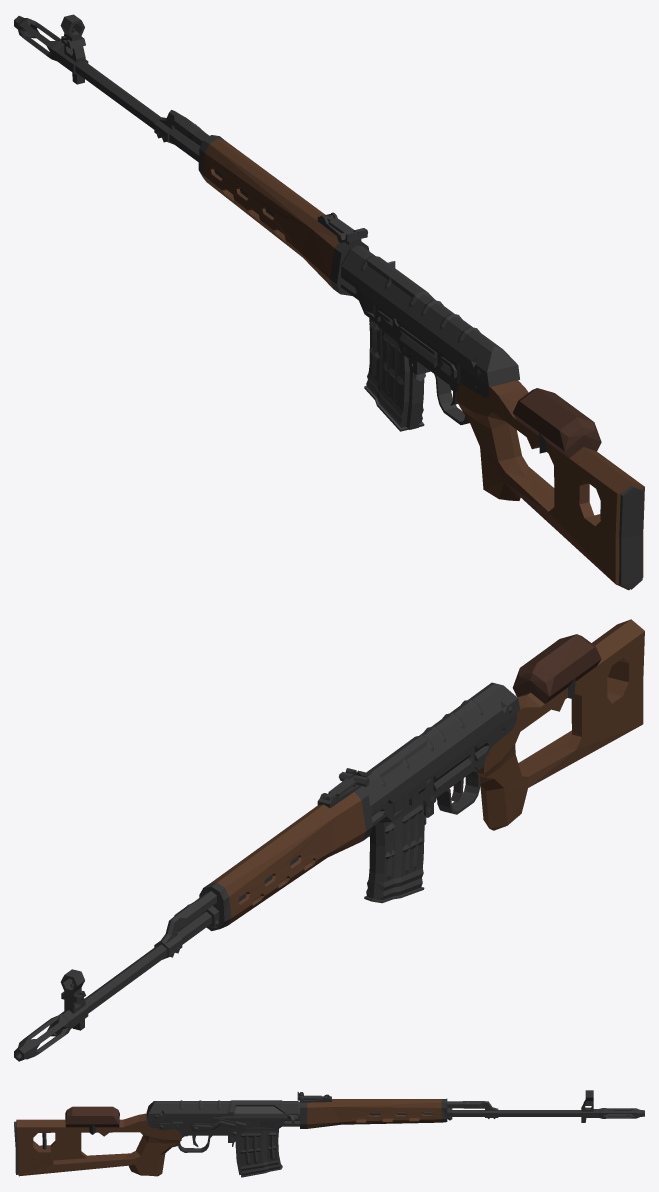
Rendered from low-poly_dragunov_svd.glb.
3 views of the same model, one above another, from view 1: azimuth 30°, elevation 25°; view 2: azimuth 150°, elevation 25°; view 3: azimuth 270°, elevation 25° (orthographic). The views are drawn at different scales.
Visible parts, largest first — view 1: svd_stock_8, svd_dustcover_1, svd_handguard_5, svd_barrel_0, svd_reciever_3, svd_magazine_6; view 2: svd_stock_8, svd_handguard_5, svd_dustcover_1, svd_barrel_0, svd_reciever_3, svd_magazine_6, svd_rear_sight_4; view 3: svd_stock_8, svd_handguard_5, svd_barrel_0, svd_dustcover_1, svd_reciever_3, svd_magazine_6, svd_boltcarrier_2, svd_selector_7, svd_rear_sight_4.
Part boxes in pixels (bbox=[...]): svd_stock_8: bbox=[456, 380, 644, 590]; svd_dustcover_1: bbox=[341, 245, 519, 387]; svd_handguard_5: bbox=[198, 135, 339, 288]; svd_barrel_0: bbox=[14, 14, 361, 250]; svd_reciever_3: bbox=[330, 241, 489, 424]; svd_magazine_6: bbox=[364, 318, 424, 431]; svd_stock_8: bbox=[477, 619, 644, 830]; svd_handguard_5: bbox=[199, 792, 365, 931]; svd_dustcover_1: bbox=[361, 682, 519, 813]; svd_barrel_0: bbox=[14, 784, 361, 1061]; svd_reciever_3: bbox=[354, 713, 516, 840]; svd_magazine_6: bbox=[364, 802, 424, 903]; svd_rear_sight_4: bbox=[324, 768, 369, 801]; svd_stock_8: bbox=[14, 1106, 181, 1176]; svd_handguard_5: bbox=[307, 1098, 447, 1128]; svd_barrel_0: bbox=[300, 1090, 644, 1122]; svd_dustcover_1: bbox=[146, 1100, 299, 1120]; svd_reciever_3: bbox=[148, 1102, 307, 1152]; svd_magazine_6: bbox=[235, 1129, 282, 1177]; svd_boltcarrier_2: bbox=[222, 1106, 298, 1123]; svd_selector_7: bbox=[190, 1118, 246, 1132]; svd_rear_sight_4: bbox=[297, 1092, 327, 1102].
Bounding box in the file's own units: 0.3532 × 1.04 × 7.03.
1 material, 1 textured.
